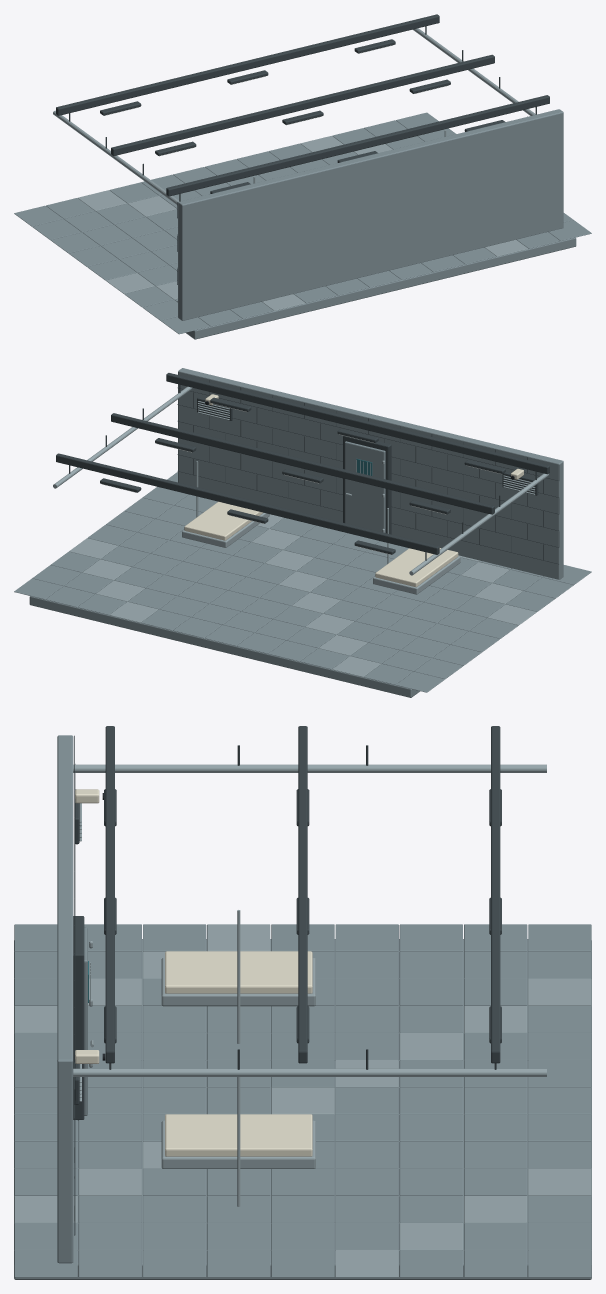
The model's file is infirmary.glb.
3 views of the same model, one above another, from view 1: azimuth 30°, elevation 25°; view 2: azimuth 150°, elevation 25°; view 3: azimuth 270°, elevation 25° (orthographic). The views are drawn at different scales.
Visible parts, largest first — view 1: infirmary-blue painted masonry, infirmary-forged graphite steel, infirmary-galvanized edges; view 2: infirmary-blue painted masonry, infirmary-forged graphite steel, infirmary-galvanized edges, infirmary-aged paper; view 3: infirmary-blue painted masonry, infirmary-galvanized edges, infirmary-forged graphite steel, infirmary-aged paper.
Boxes of the visible parts, x1,y1,x2,y2 form: infirmary-blue painted masonry: (14, 109, 591, 339); infirmary-forged graphite steel: (56, 14, 549, 301); infirmary-galvanized edges: (53, 28, 535, 310); infirmary-blue painted masonry: (14, 368, 591, 697); infirmary-forged graphite steel: (56, 373, 559, 564); infirmary-galvanized edges: (53, 386, 548, 677); infirmary-aged paper: (184, 394, 523, 587); infirmary-blue painted masonry: (14, 735, 591, 1279); infirmary-galvanized edges: (14, 764, 591, 1277); infirmary-forged graphite steel: (73, 726, 501, 1235); infirmary-aged paper: (75, 789, 312, 1156).
Size of the model in its own units: 12.99 by 3.94 by 9.
